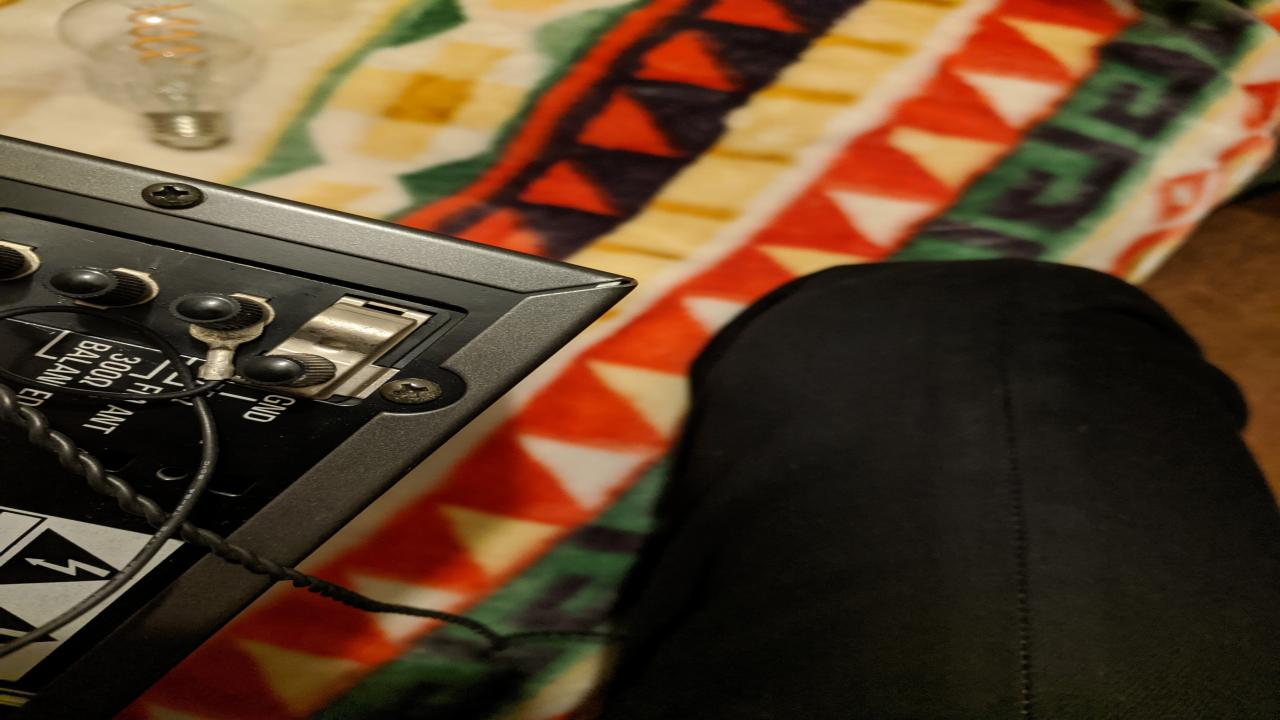CRS: (138, 181, 211, 211), (376, 378, 447, 404)
